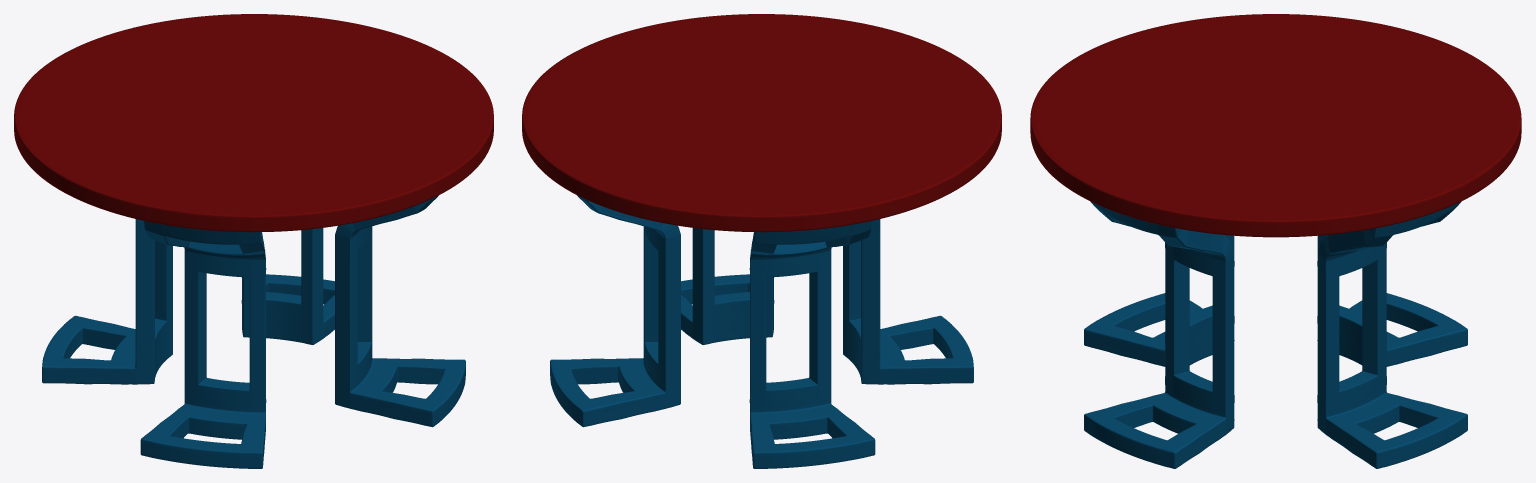
Rendered from MesaSeparadaHP.fbx.
3 renders of one model, left to right at view 1: azimuth 30°, elevation 25°; view 2: azimuth 150°, elevation 25°; view 3: azimuth 270°, elevation 25°, orthographic. The views are drawn at different scales.
Parts seen in each view (by area): view 1: polySurface2, polySurface1; view 2: polySurface2, polySurface1; view 3: polySurface2, polySurface1.
Part boxes in pixels (left/top/right/bottom): polySurface2: left=14, top=14, right=493, bottom=232; polySurface1: left=42, top=195, right=465, bottom=468; polySurface2: left=522, top=14, right=1001, bottom=232; polySurface1: left=550, top=195, right=973, bottom=468; polySurface2: left=1030, top=14, right=1521, bottom=237; polySurface1: left=1084, top=201, right=1467, bottom=468.
Size of the model in its own units: 240 by 146 by 240.
